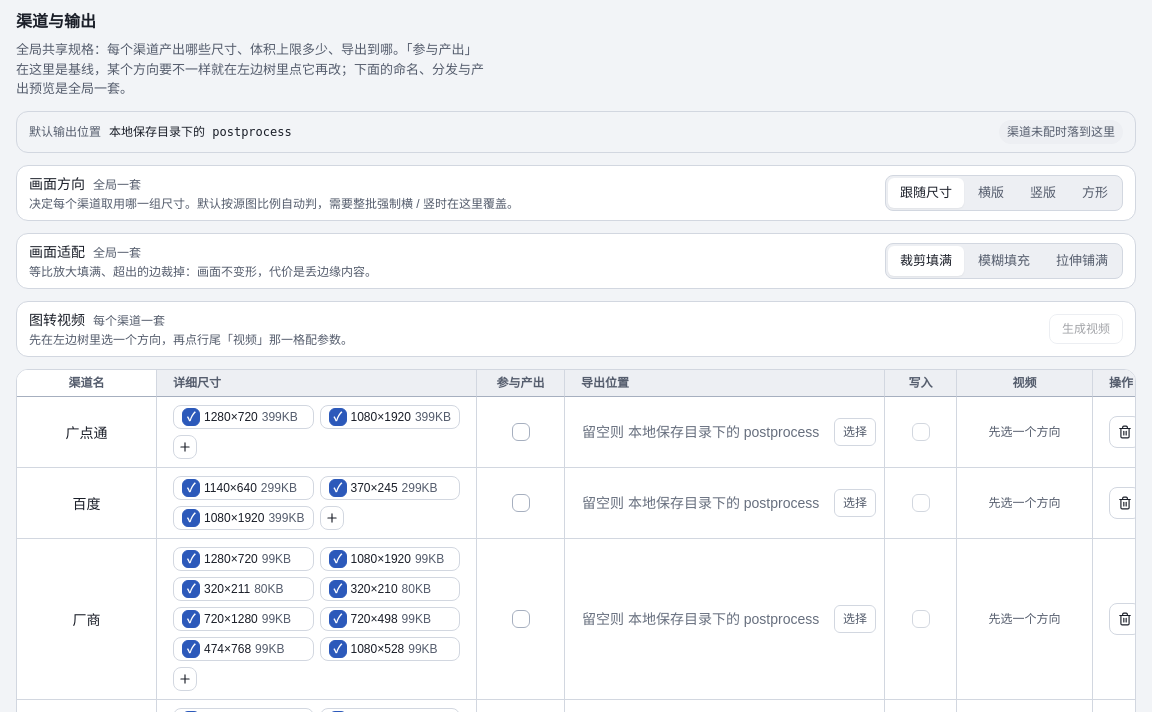
Test: 中控台 · 渠道与输出分区：表本体（尺寸 / 参与产出 / 导出位置合成一张表） › 画面适配只显示**当前选中**那条的代价：三个模式都能填满画布，差别全在代价上
Click the radio button labelled "模糊填充" at (1004, 260), box [966,246,1042,276]
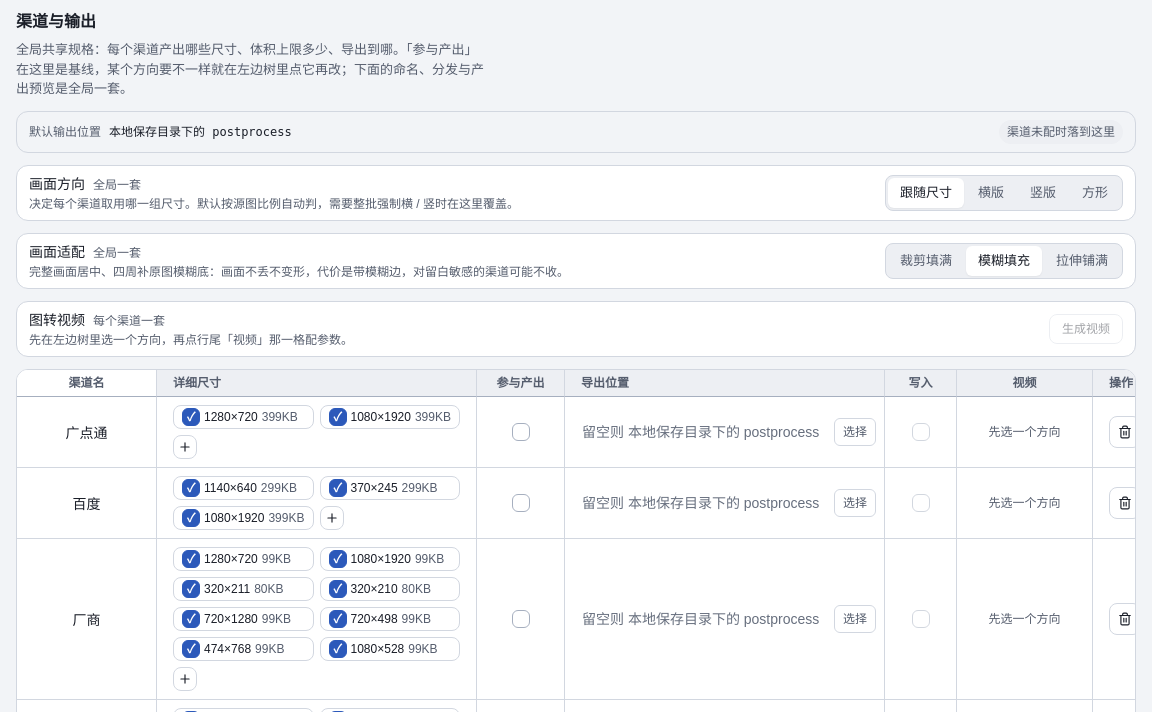
Now the text "对留白敏感的渠道可能不收" is shown, box [29,264,569,278]
Now the text "代价是丢边缘内容" is gone
